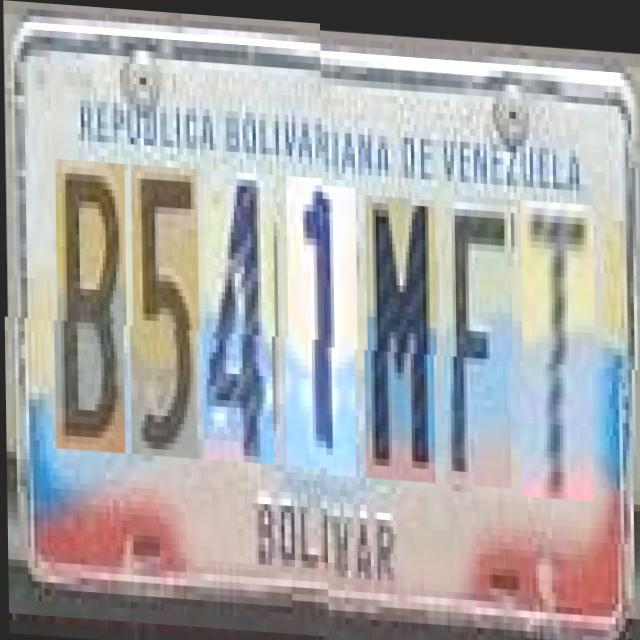1: (286, 178, 358, 472)
4: (203, 173, 276, 467)
5: (130, 170, 200, 462)
B: (54, 164, 128, 458)
F: (444, 188, 513, 480)
M: (364, 189, 438, 476)
T: (520, 192, 596, 493)
